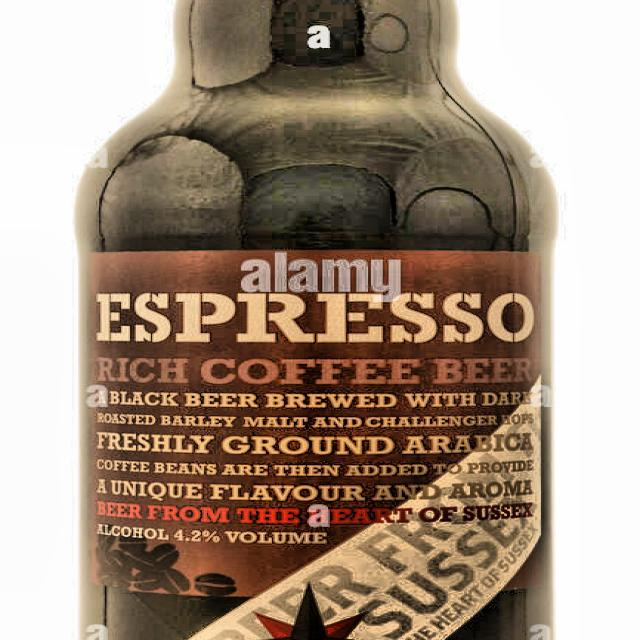glass: (77, 0, 557, 640)
